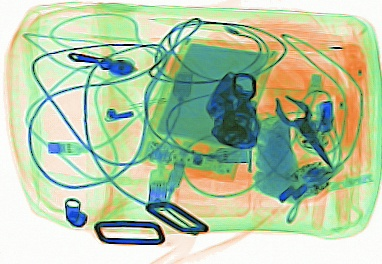scissors: (249, 59, 335, 169)
